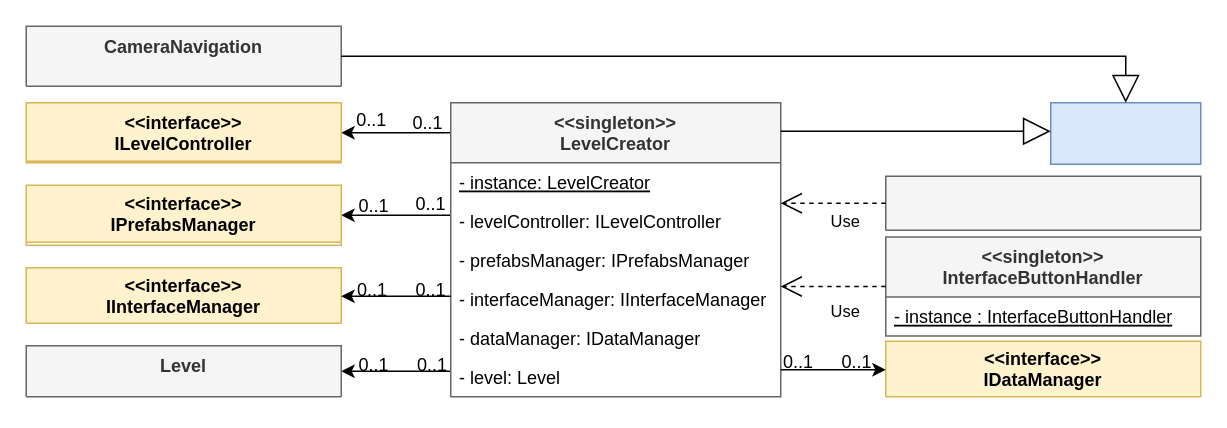
The diagram is 1227 pixels wide and 428 high, and some of its shapes have lost their labels. The shapes that lost their labels are listed below. From the top down, each one's centre as x and y in pixels, then its label:
At (1125,132): "MonoBehaviour".
At (1042,202): "InterfaceTextFieldHandler".
